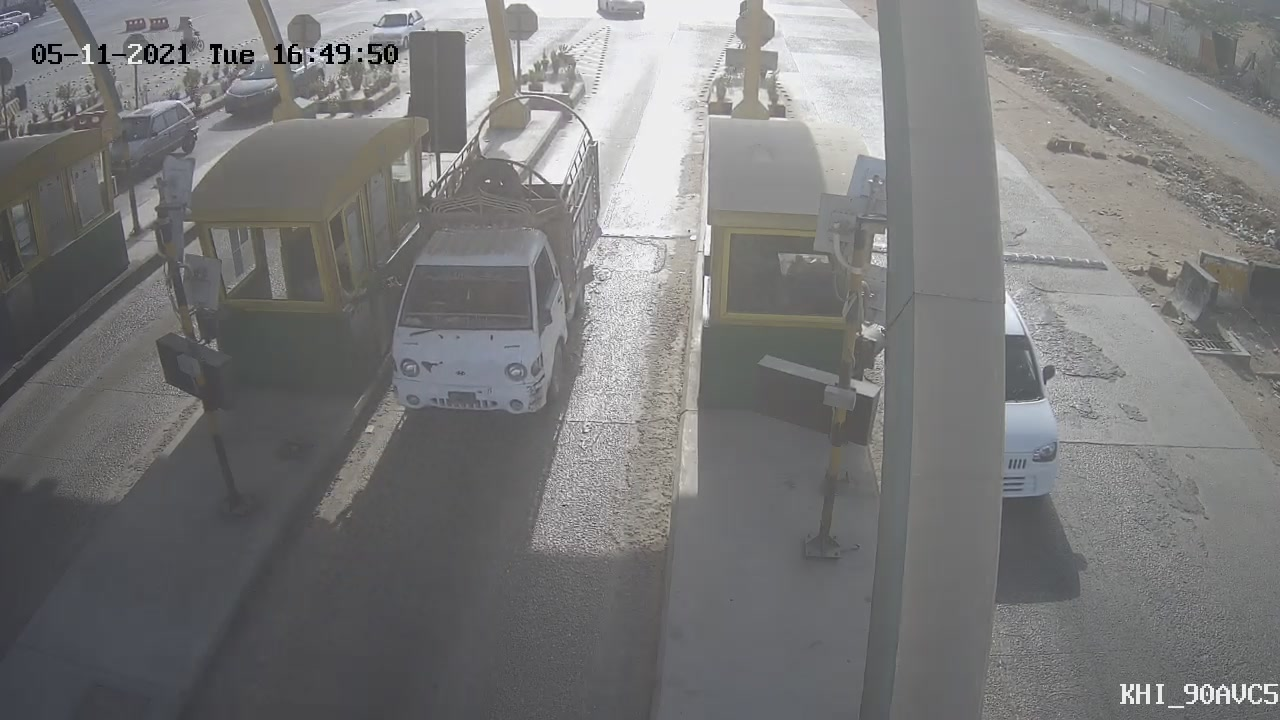F2: (374, 74, 631, 442)
